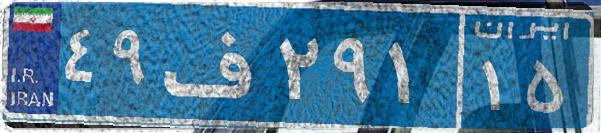1: (385, 28, 445, 110), (475, 38, 525, 113)
2: (273, 28, 330, 110)
4: (57, 26, 110, 107)
5: (525, 38, 570, 115)
9: (330, 28, 385, 110), (110, 28, 158, 105)
ف: (158, 15, 273, 115)
